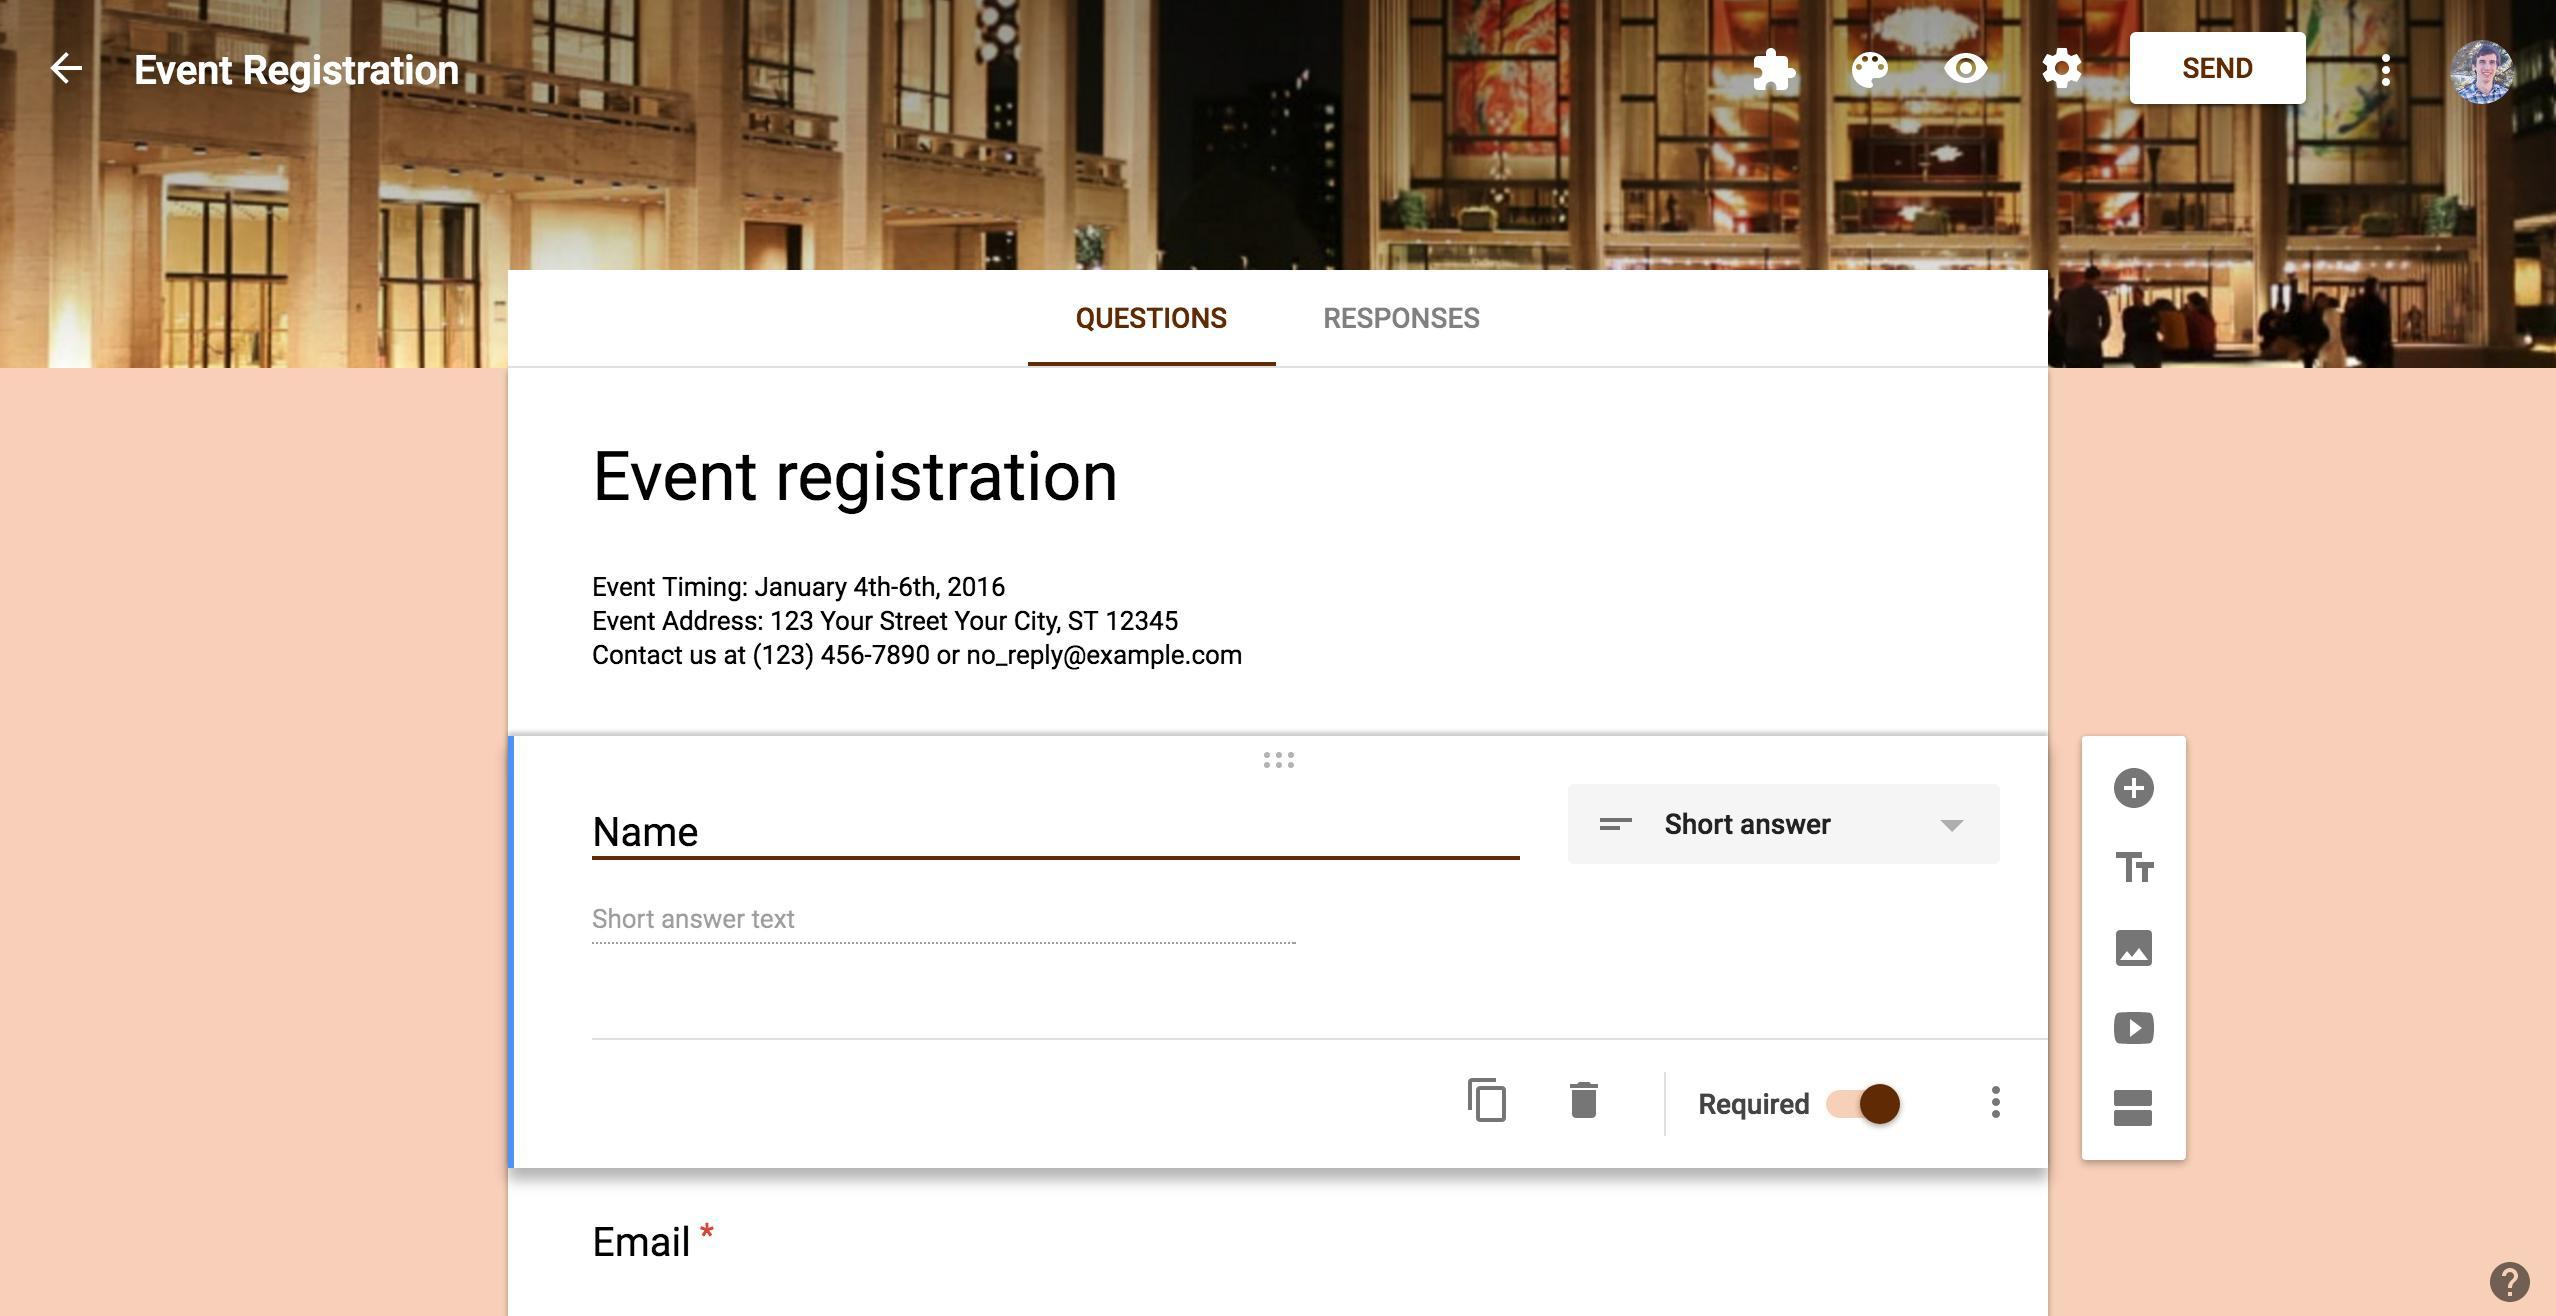button: (2131, 32, 2309, 107)
dropdown: (1564, 784, 2006, 864)
icon: (1458, 1068, 1519, 1135), (2110, 1084, 2163, 1135), (2111, 923, 2163, 974), (1566, 1073, 1609, 1130), (2111, 765, 2158, 817), (1749, 49, 1799, 96), (2111, 1007, 2163, 1051), (2037, 47, 2089, 89), (1849, 49, 1891, 92), (2115, 848, 2158, 888), (1979, 1078, 2012, 1126), (1947, 54, 1994, 86), (2371, 50, 2402, 97)
label: (586, 441, 1123, 515), (586, 1210, 722, 1267), (589, 807, 708, 859), (1697, 1079, 1816, 1126), (1077, 302, 1230, 336), (1324, 305, 1485, 332)
switch: (1823, 1081, 1901, 1130)
